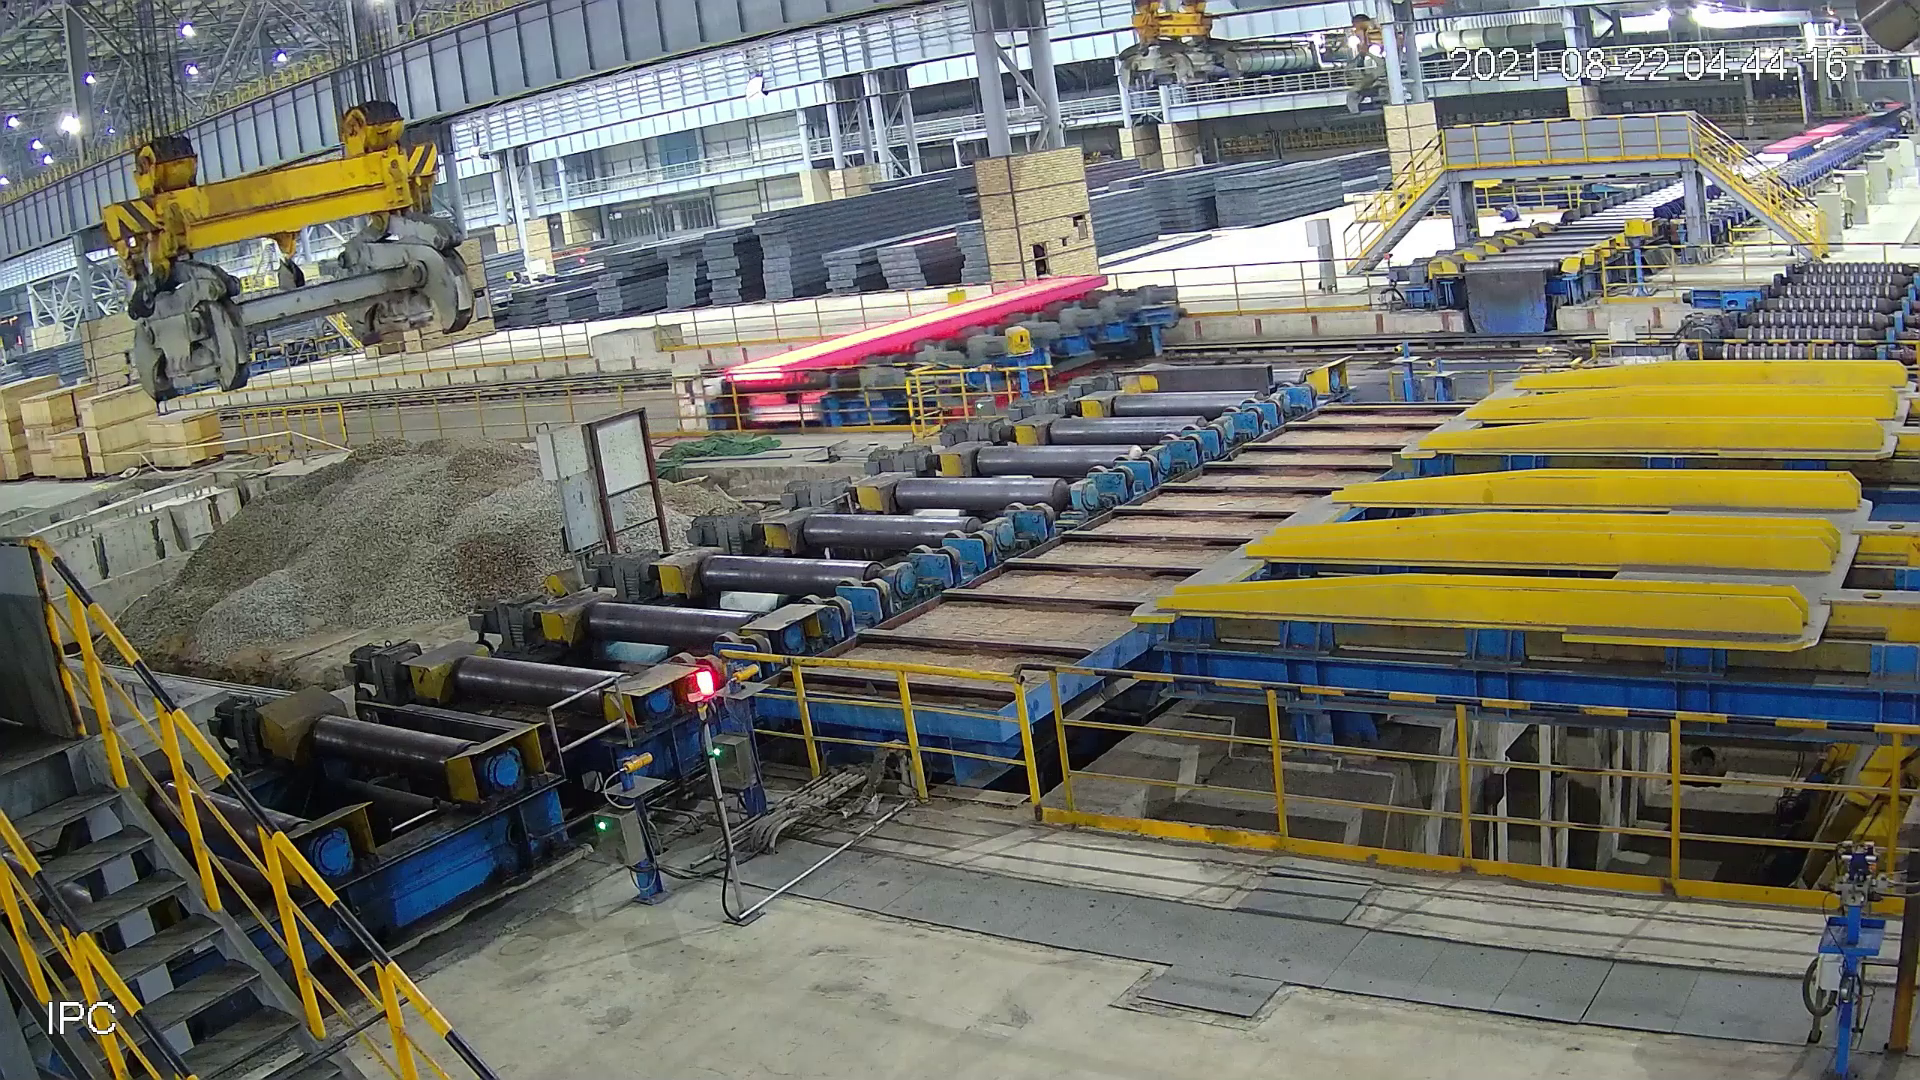crane: (94, 86, 497, 405)
craneandslab: (1325, 7, 1439, 125)
slab: (709, 266, 1117, 388)
